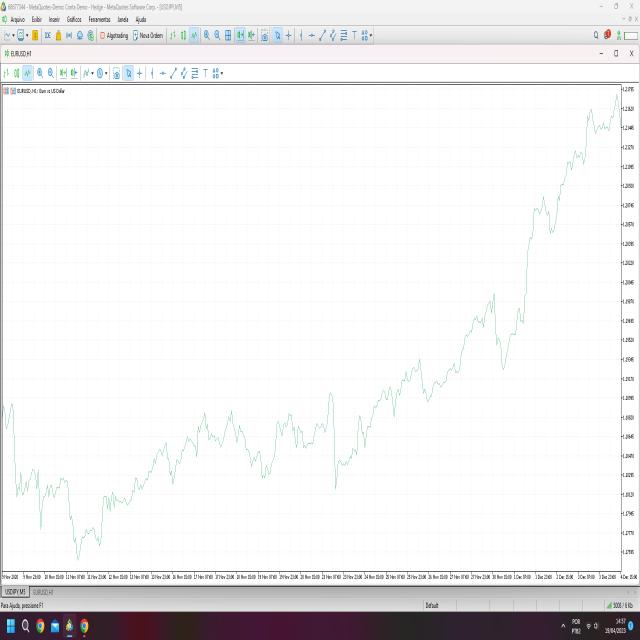fundo_duplo: (66, 498, 111, 571)
